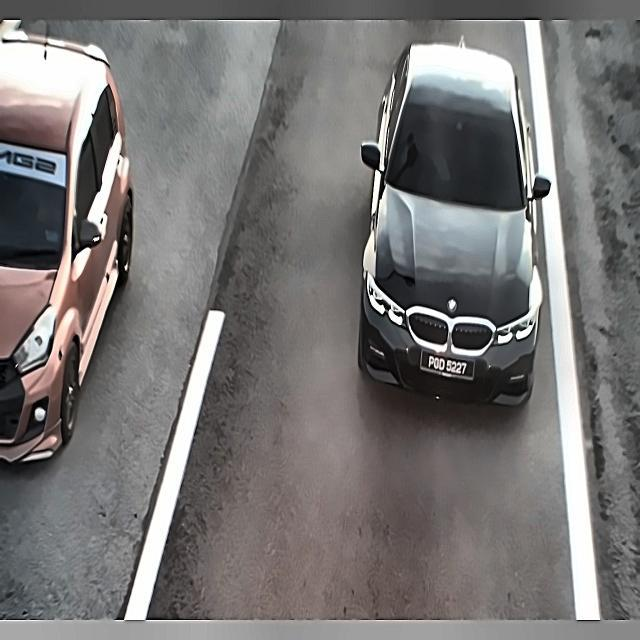car: (420, 351, 475, 387)
